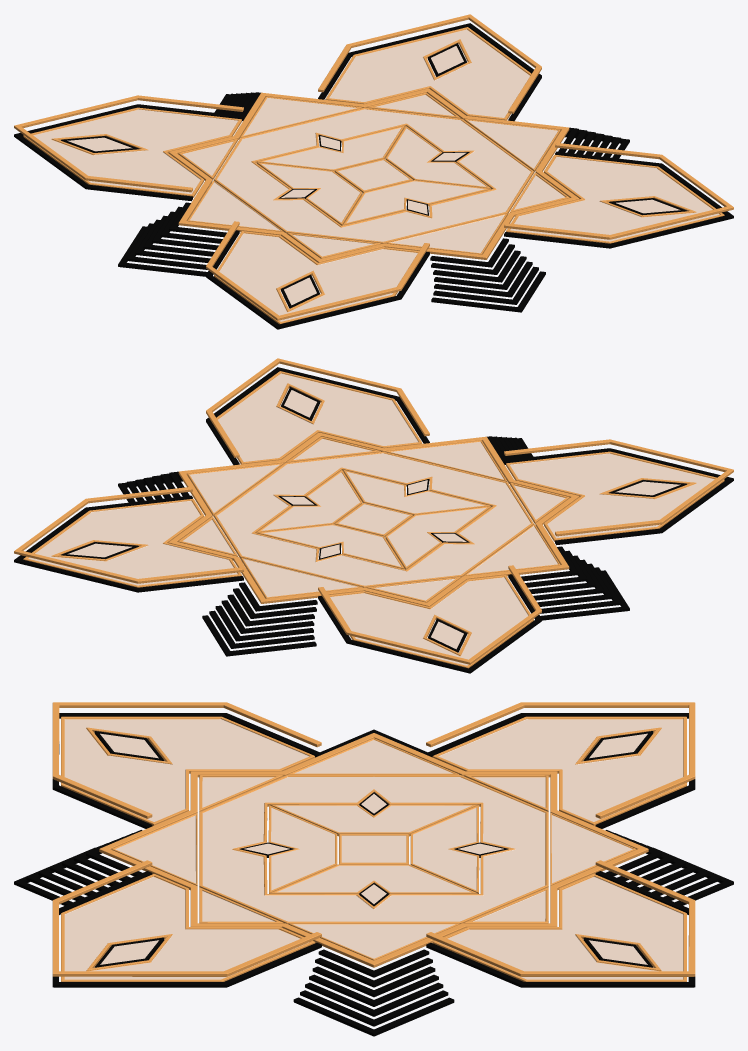
File: Platform1.fbx
3 renders of one model, top to bottom at view 1: azimuth 30°, elevation 25°; view 2: azimuth 150°, elevation 25°; view 3: azimuth 270°, elevation 25°, orthographic. The views are drawn at different scales.
Parts seen in each view (by area): view 1: Plane 3, Plane 6-1, Plane 6-1.003, Plane 6-1.001, Plane 6-1.002, Ring.001, StairsDouble.003, StairsDouble.002, Plane 1-4, Plane 1-2, Plane 1-3, Plane 1-1 (+23 smaller); view 2: Plane 3, Plane 6-1.001, Plane 6-1.002, Plane 6-1, Plane 6-1.003, Ring.001, StairsDouble.001, StairsDouble.002, Plane 1-2, Plane 1-3, Plane 1-4, Plane 1-1 (+23 smaller); view 3: Plane 3, Plane 6-1.003, Plane 6-1.002, Plane 6-1.001, Plane 6-1, Ring.001, StairsDouble, Plane 1-3, Plane 1-1, Plane 1-4, Plane 1-2, Plane 5-1 (+22 smaller).
Boxes of the visible parts, bbox=[...] form: Plane 3: bbox=[214, 107, 533, 243]; Plane 6-1: bbox=[325, 27, 531, 120]; Plane 6-1.003: bbox=[23, 107, 241, 197]; Plane 6-1.001: bbox=[506, 154, 724, 243]; Plane 6-1.002: bbox=[214, 231, 418, 324]; Ring.001: bbox=[168, 88, 579, 262]; StairsDouble.003: bbox=[430, 238, 545, 312]; StairsDouble.002: bbox=[118, 202, 226, 276]; Plane 1-4: bbox=[257, 125, 404, 171]; Plane 1-2: bbox=[343, 180, 490, 225]; Plane 1-3: bbox=[257, 162, 362, 225]; Plane 1-1: bbox=[385, 126, 490, 188]; Plane 3: bbox=[214, 451, 533, 587]; Plane 6-1.001: bbox=[216, 371, 422, 464]; Plane 6-1.002: bbox=[506, 451, 724, 541]; Plane 6-1: bbox=[23, 498, 241, 587]; Plane 6-1.003: bbox=[329, 575, 533, 668]; Ring.001: bbox=[168, 432, 579, 606]; StairsDouble.001: bbox=[202, 582, 317, 656]; StairsDouble.002: bbox=[521, 546, 629, 620]; Plane 1-2: bbox=[343, 469, 490, 515]; Plane 1-3: bbox=[385, 506, 490, 569]; Plane 1-4: bbox=[257, 524, 404, 569]; Plane 1-1: bbox=[257, 470, 362, 532]; Plane 3: bbox=[199, 775, 548, 924]; Plane 6-1.003: bbox=[432, 716, 686, 826]; Plane 6-1.002: bbox=[61, 716, 314, 826]; Plane 6-1.001: bbox=[61, 874, 315, 981]; Plane 6-1: bbox=[433, 874, 686, 981]; Ring.001: bbox=[99, 733, 648, 967]; StairsDouble: bbox=[293, 949, 454, 1036]; Plane 1-3: bbox=[270, 804, 477, 836]; Plane 1-1: bbox=[270, 864, 477, 894]; Plane 1-4: bbox=[410, 805, 479, 893]; Plane 1-2: bbox=[268, 805, 337, 893]; Plane 5-1: bbox=[288, 923, 459, 960].
Bounding box in the file's own units: 2062 × 147 × 2062.
